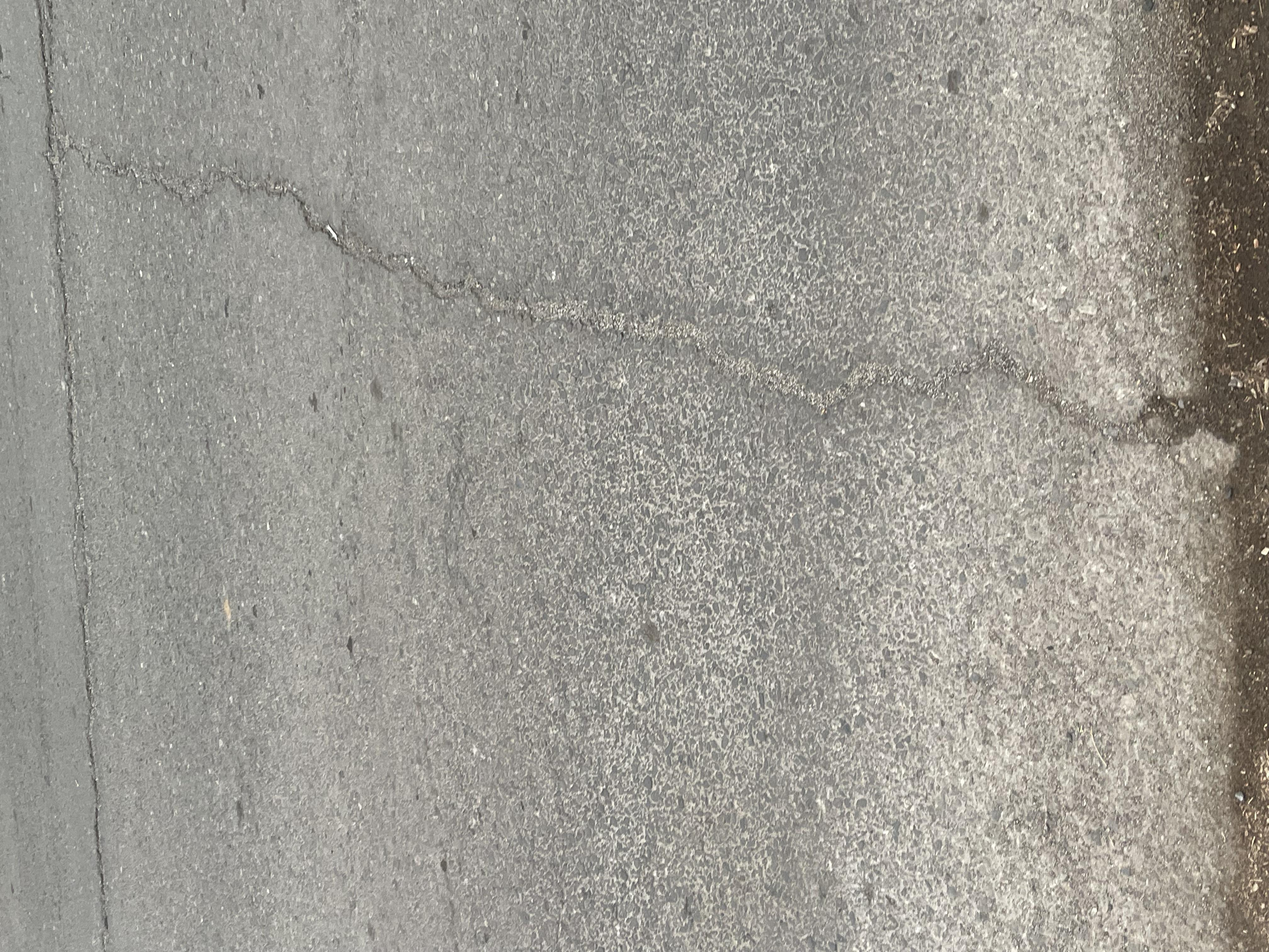GRIETA: (63, 139, 1208, 450), (35, 0, 109, 949)
